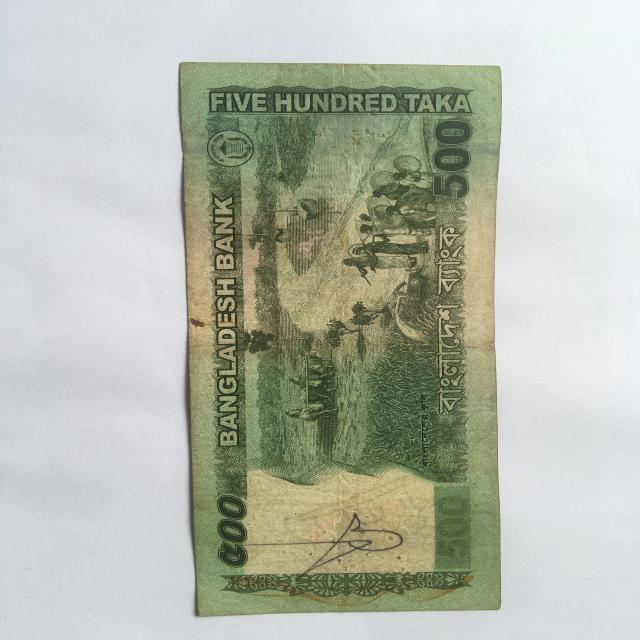Taka: (174, 56, 503, 619)
